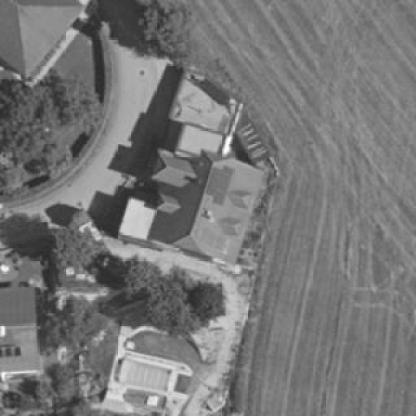solar-pv-panel: (205, 165, 234, 205), (201, 229, 229, 252), (0, 345, 21, 356)
